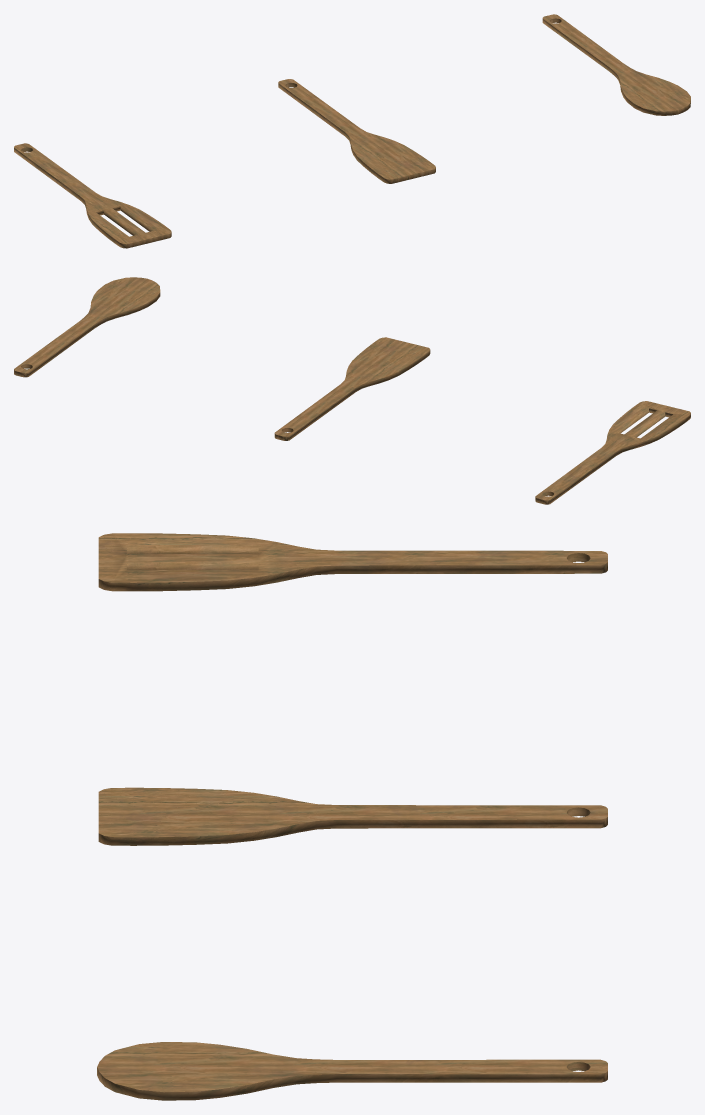
File: utensils02.fbx
3 views of the same model, one above another, from view 1: azimuth 30°, elevation 25°; view 2: azimuth 150°, elevation 25°; view 3: azimuth 270°, elevation 25° (orthographic). The views are drawn at different scales.
Visible parts, largest first — view 1: Spoon01, Spoon02, Spoon03; view 2: Spoon01, Spoon02, Spoon03; view 3: Spoon01, Spoon02, Spoon03.
Part boxes in pixels (x1=…): Spoon01: x1=278, y1=79, x2=435, y2=183; Spoon02: x1=14, y1=143, x2=171, y2=248; Spoon03: x1=542, y1=14, x2=690, y2=115; Spoon01: x1=274, y1=337, x2=430, y2=440; Spoon02: x1=535, y1=401, x2=690, y2=504; Spoon03: x1=14, y1=277, x2=160, y2=377; Spoon01: x1=98, y1=787, x2=607, y2=845; Spoon02: x1=98, y1=533, x2=607, y2=591; Spoon03: x1=97, y1=1042, x2=607, y2=1100.
Bounding box in the file's own units: 141 × 1 × 54.29.
1 material, 1 textured.
